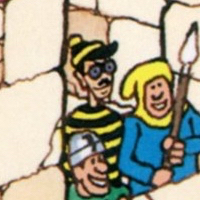odlaw: (71, 39, 112, 96)
